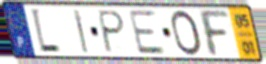E: (126, 9, 168, 56)
F: (195, 8, 232, 58)
I: (72, 8, 90, 55)
L: (29, 7, 63, 56)
O: (170, 9, 205, 58)
P: (97, 9, 127, 55)
